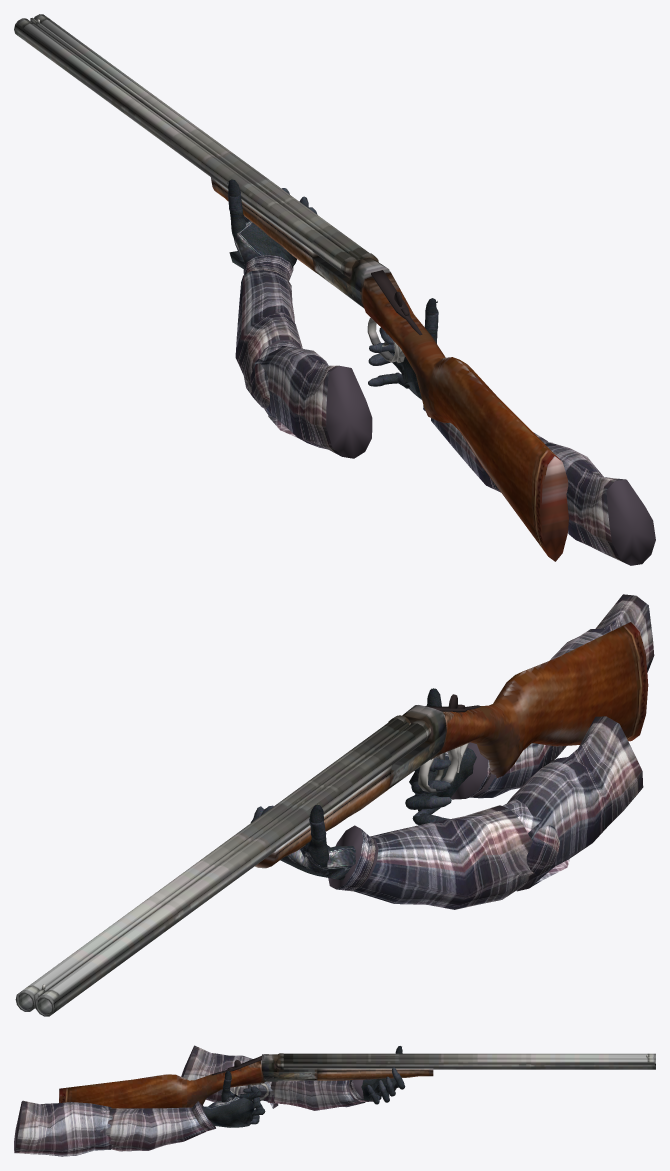
The model's file is dbshotgun_view.fbx.
The picture shows the model from 3 angles, top to bottom: view 1: azimuth 30°, elevation 25°; view 2: azimuth 150°, elevation 25°; view 3: azimuth 270°, elevation 25°; orthographic projection. The views are drawn at different scales.
Parts seen in each view (by area): view 1: dbstock, larm, dbfrontgrip, rupperarm, lhand, dbbody, rforearm, dbback; view 2: larm, dbfrontgrip, dbstock, rforearm, lhand, rupperarm, dbbody, rhand, dbtriggerguard; view 3: dbfrontgrip, dbstock, rupperarm, larm, rforearm, rhand, dbbody, lhand, dbback.
Boxes of the visible parts, x1,y1,x2,y2 form: dbstock: (361, 271, 568, 561); larm: (235, 254, 372, 458); dbfrontgrip: (14, 14, 369, 272); rupperarm: (543, 441, 655, 565); lhand: (227, 179, 317, 268); dbbody: (312, 253, 389, 307); rforearm: (423, 405, 547, 492); dbback: (371, 270, 422, 335); larm: (328, 716, 643, 909); dbfrontgrip: (15, 718, 426, 1016); dbstock: (430, 621, 648, 778); rforearm: (451, 742, 566, 799); lhand: (250, 804, 355, 880); rupperarm: (550, 594, 654, 672); dbbody: (388, 705, 446, 789); rhand: (409, 747, 476, 812); dbtriggerguard: (418, 743, 468, 792); dbfrontgrip: (283, 1053, 655, 1080); dbstock: (59, 1055, 264, 1108); rupperarm: (14, 1100, 112, 1156); larm: (181, 1045, 372, 1110); rforearm: (105, 1101, 215, 1151); rhand: (202, 1094, 254, 1127); dbbody: (262, 1053, 317, 1081); lhand: (357, 1046, 405, 1104); dbback: (211, 1056, 261, 1075).
Size of the model in its own units: 11.84 by 10.49 by 63.5.
Materials: 3 (3 with a texture image).
